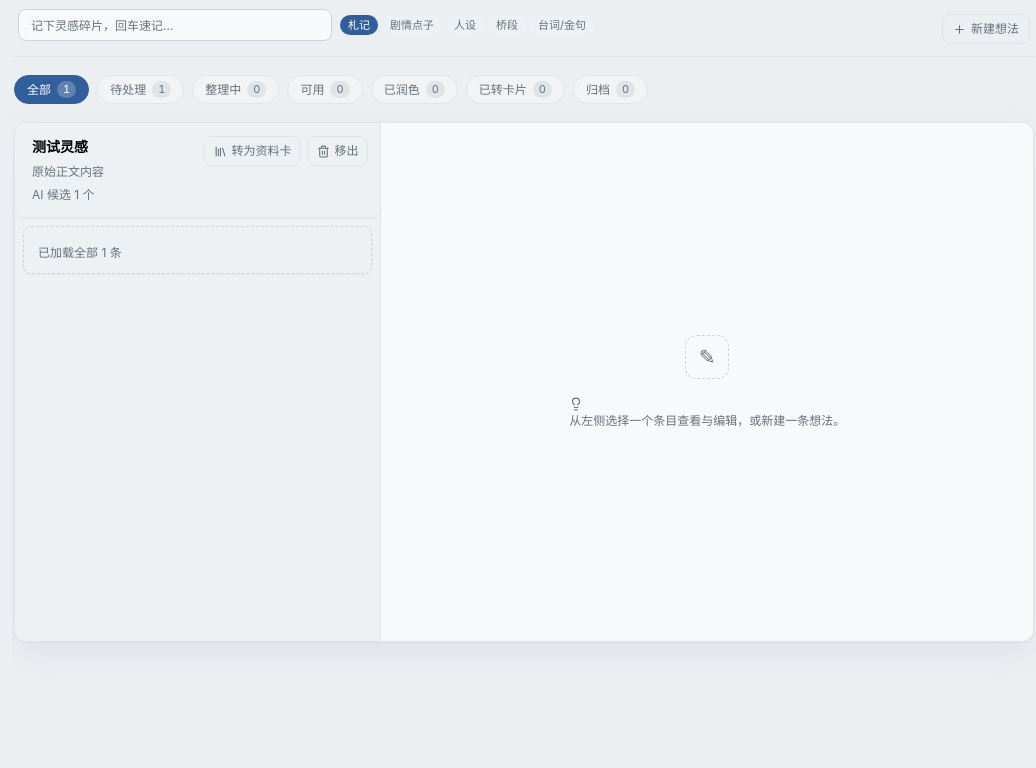
Scenario: InboxPage AI 门控 › 关闭 AI 后，已存在的候选版本仍然展示
Click the text "测试灵感": (60, 147) [32,138,88,155]
(page scrolled)
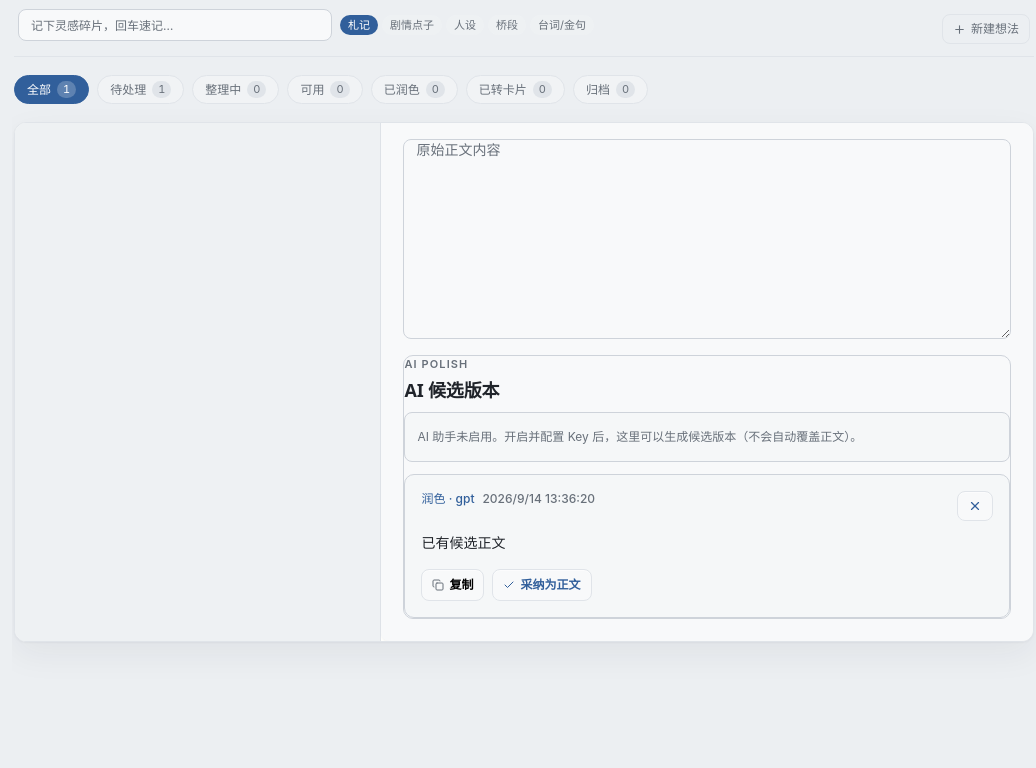
Result: the heading "AI 候选版本" is shown at [404,378,499,402]
Result: the text "已有候选正文" is shown at [422,534,506,551]
